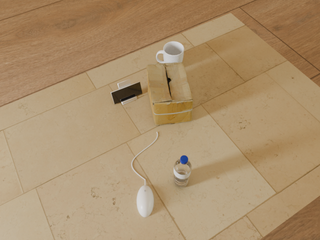bottle: (173, 155, 192, 188)
box: (147, 62, 193, 126)
cup: (156, 42, 184, 63)
mouse: (137, 185, 154, 217)
phone: (111, 81, 142, 104)
